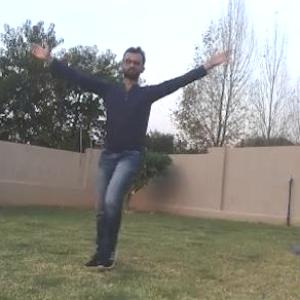takeoff: (28, 42, 226, 264)
